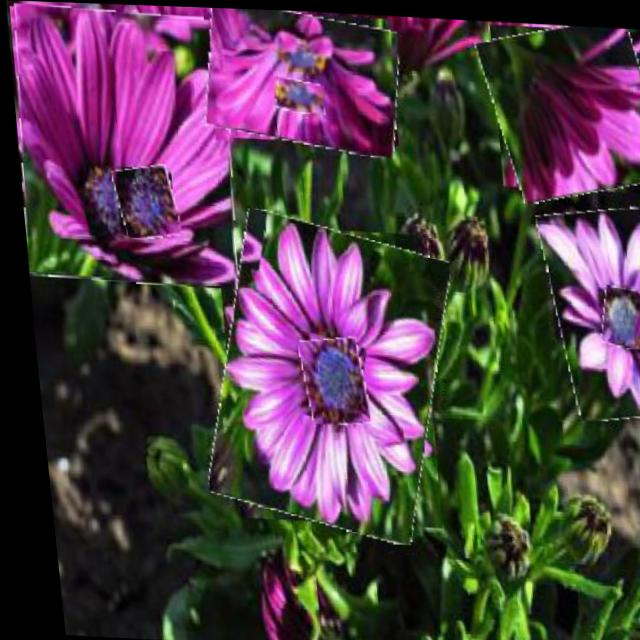Flower: (189, 212, 454, 536), (2, 4, 241, 288), (195, 6, 405, 152), (475, 16, 640, 199), (532, 198, 640, 420), (290, 333, 362, 424), (108, 163, 177, 240), (592, 282, 640, 345), (272, 77, 324, 113)
